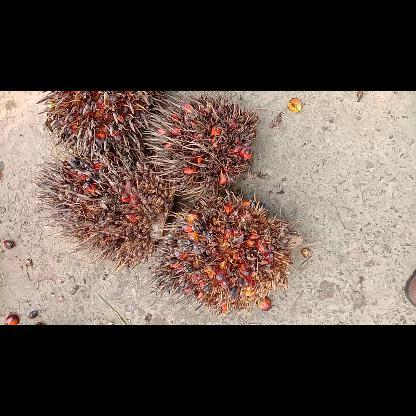Terlalu masak: (142, 186, 298, 320), (30, 141, 180, 275), (140, 91, 262, 204), (31, 91, 169, 163)
